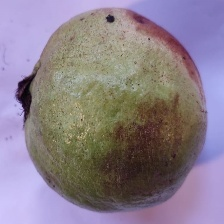guava: (3, 15, 190, 205)
